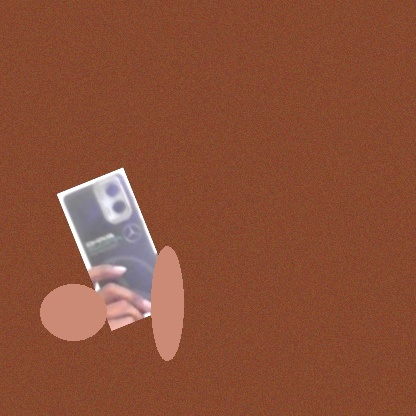cell_phone: (57, 167, 178, 331)
